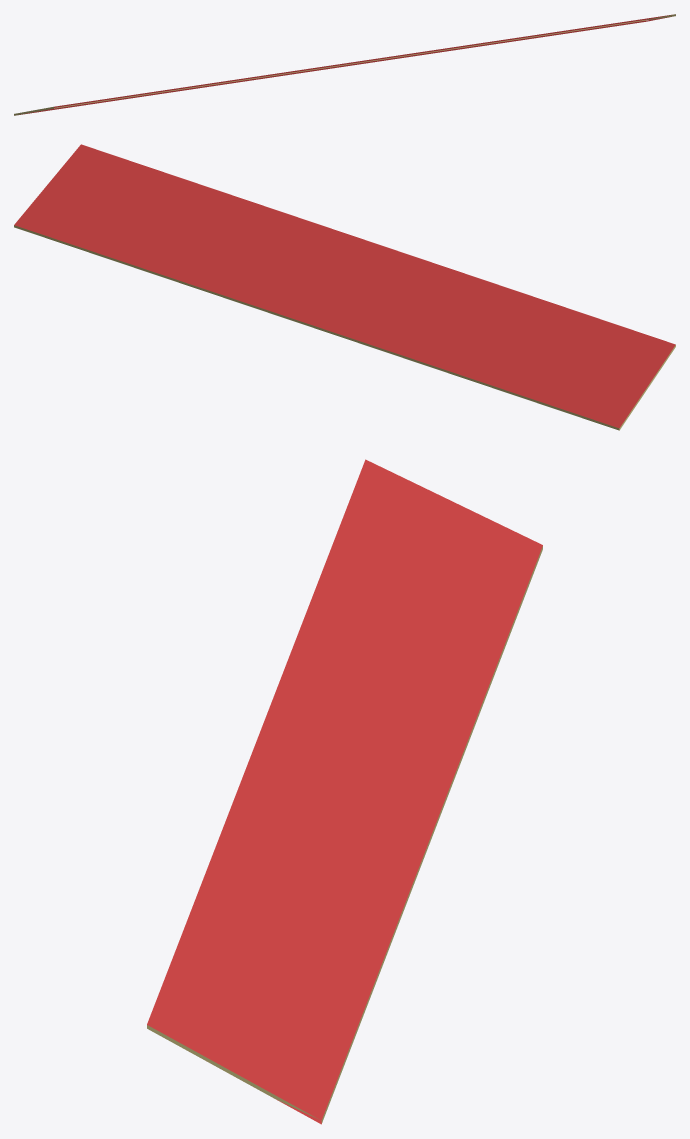
The picture shows the model from 3 angles, top to bottom: view 1: azimuth 30°, elevation 25°; view 2: azimuth 150°, elevation 25°; view 3: azimuth 270°, elevation 25°; orthographic projection. The views are drawn at different scales.
Parts seen in each view (by area): view 1: group_5, group_3, group_4; view 2: group_3, group_4; view 3: group_3, group_4.
Part boxes in pixels (x1,y1,x2,y2): group_5: (18,16,671,115); group_3: (54,14,671,107); group_4: (14,14,675,115); group_3: (14,144,675,428); group_4: (14,225,675,430); group_3: (147,459,542,1120); group_4: (147,546,542,1123).
Size of the model in its own units: 31.31 by 9.24 by 2.52.
